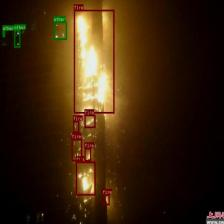fire: (74, 9, 114, 113), (76, 162, 96, 196), (71, 138, 82, 162), (84, 114, 96, 128), (84, 147, 91, 161), (102, 194, 110, 205), (73, 120, 79, 133)
